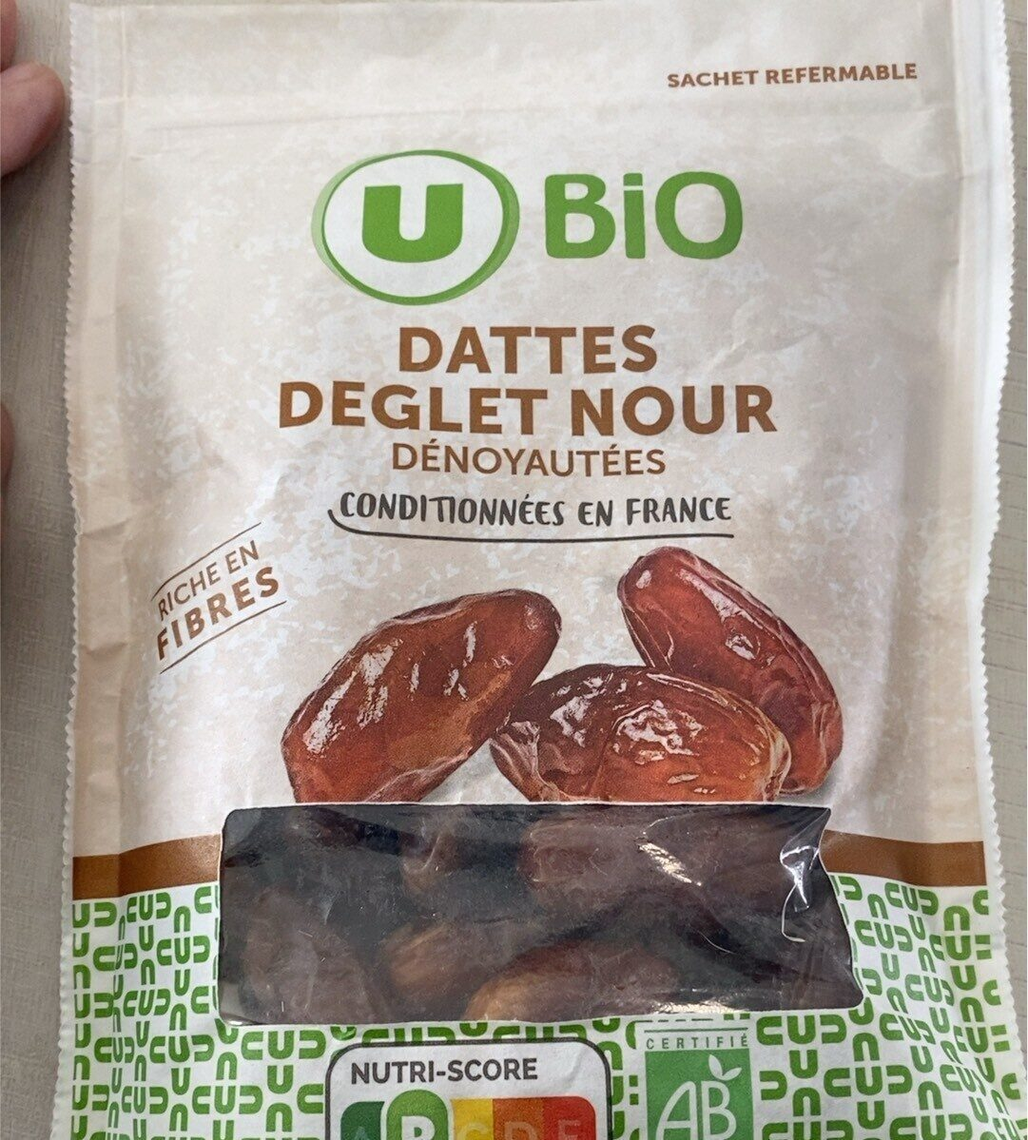DATEES DEGLET NOUR: (51, 57, 977, 1083)
